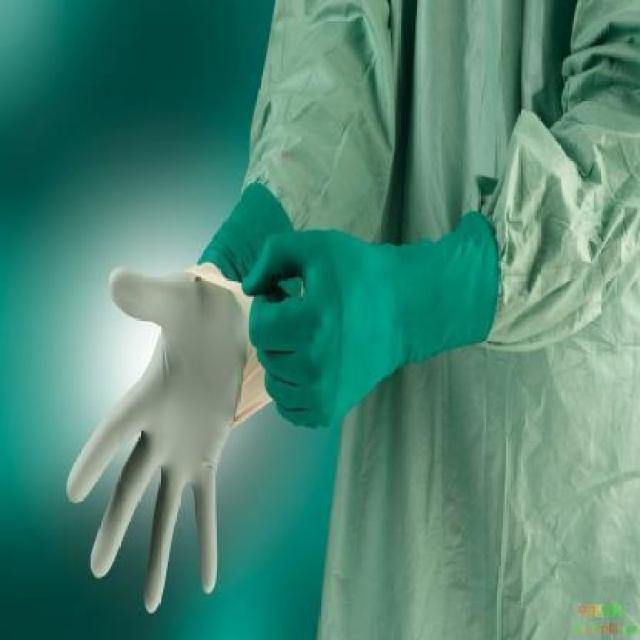hand_glove: (65, 262, 229, 618), (243, 226, 405, 434)
